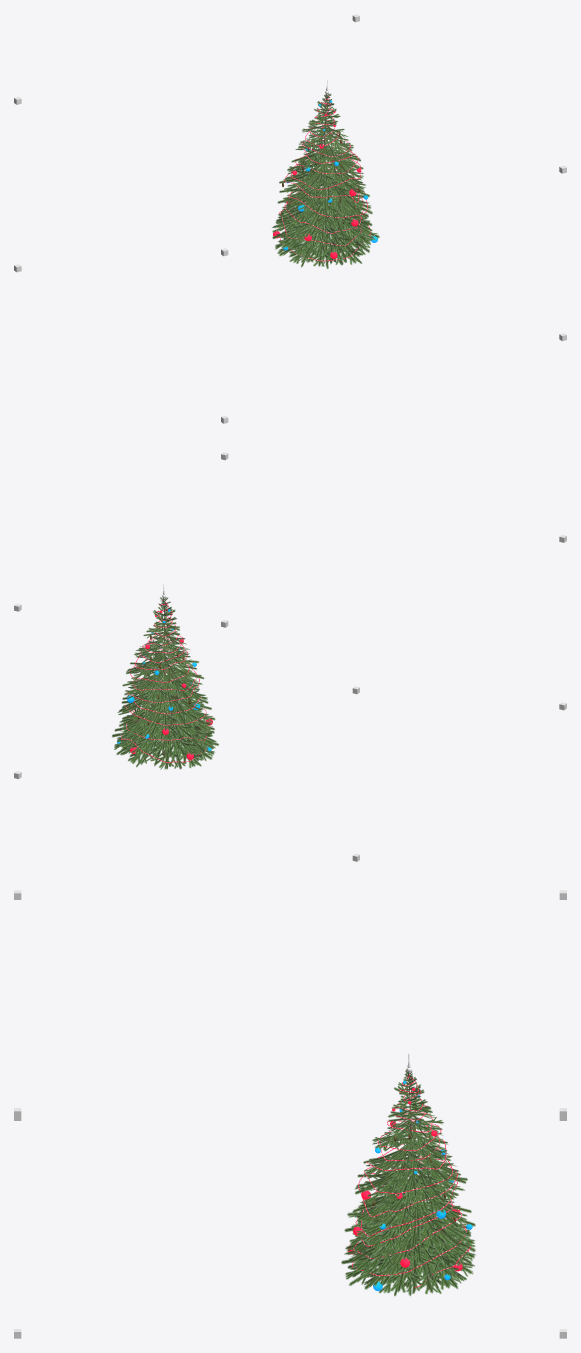
File: xmas-tree.glb
3 views of the same model, one above another, from view 1: azimuth 30°, elevation 25°; view 2: azimuth 150°, elevation 25°; view 3: azimuth 270°, elevation 25° (orthographic). The views are drawn at different scales.
Visible parts, largest first — view 1: _gltfNode_4, _gltfNode_11; view 2: _gltfNode_4, _gltfNode_11; view 3: _gltfNode_4, _gltfNode_11, _gltfNode_5.
Part boxes in pixels (x1,y1,x2,y2): _gltfNode_4: (272, 93, 379, 268); _gltfNode_11: (279, 96, 370, 261); _gltfNode_4: (112, 597, 218, 769); _gltfNode_11: (121, 599, 206, 762); _gltfNode_4: (341, 1069, 475, 1296); _gltfNode_11: (352, 1074, 470, 1287); _gltfNode_5: (351, 1074, 469, 1286).
Size of the model in its own units: 5.01 by 2.41 by 5.3.
7 materials, 2 textured.
